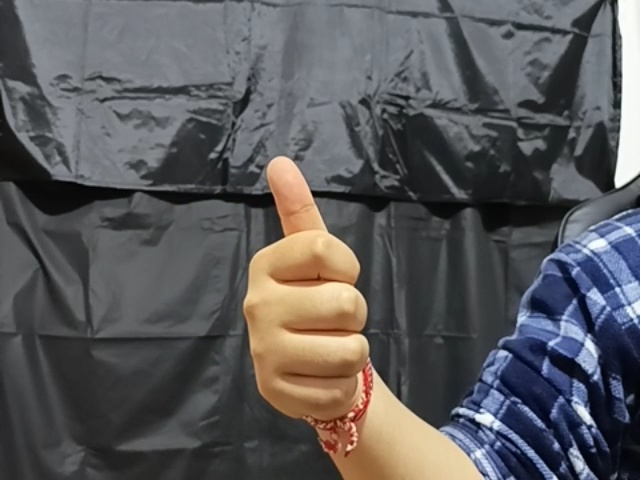A: (240, 153, 380, 426)
